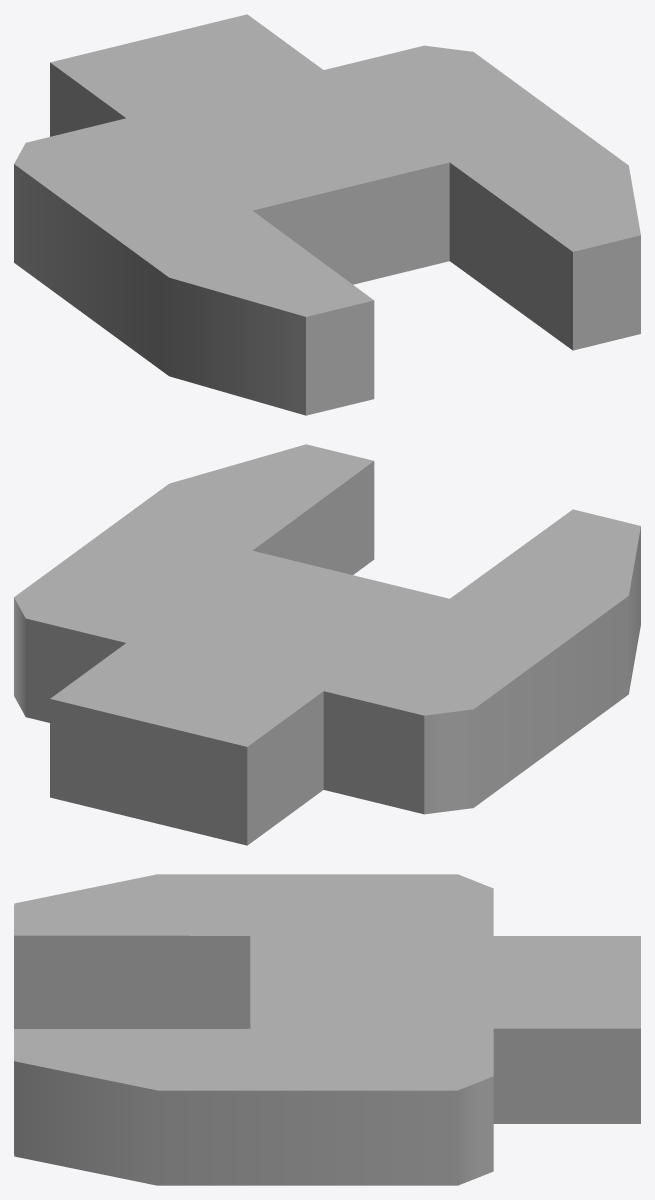
File: Foam.obj
3 views of the same model, one above another, from view 1: azimuth 30°, elevation 25°; view 2: azimuth 150°, elevation 25°; view 3: azimuth 270°, elevation 25° (orthographic). The views are drawn at different scales.
Parts seen in each view (by area): view 1: Foam; view 2: Foam; view 3: Foam.
Part boxes in pixels (bbox=[...]): Foam: bbox=[14, 14, 640, 415]; Foam: bbox=[14, 444, 640, 845]; Foam: bbox=[14, 874, 640, 1185].
Size of the model in its own units: 2.54 by 0.5218 by 3.11.
